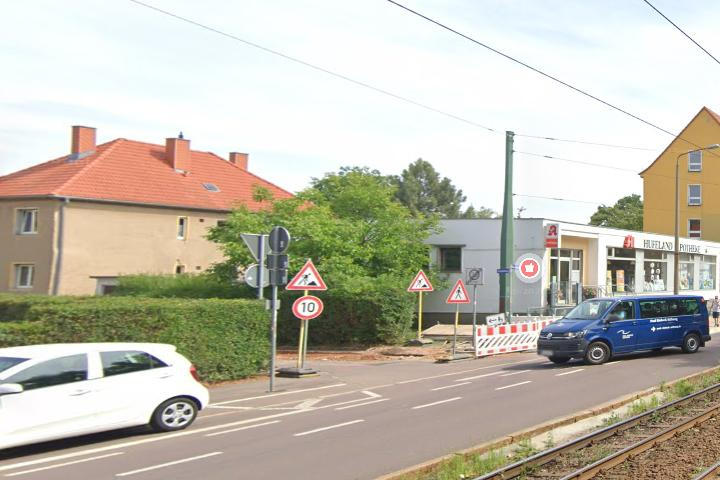google_maps: (518, 256, 542, 280)
traffic_sign: (285, 258, 327, 292), (291, 295, 324, 320), (406, 269, 434, 293), (445, 278, 470, 304)
vehicle: (1, 339, 214, 461), (533, 293, 715, 366)
